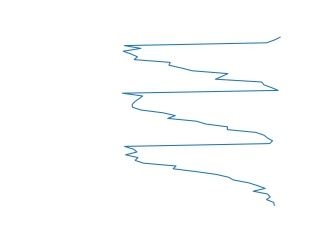distributaryMouthBar: (118, 35, 285, 207)
